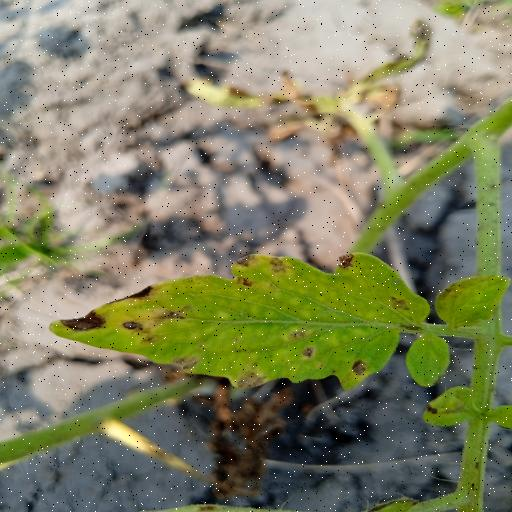Tomato_Brown_Spots: (42, 248, 434, 394)
